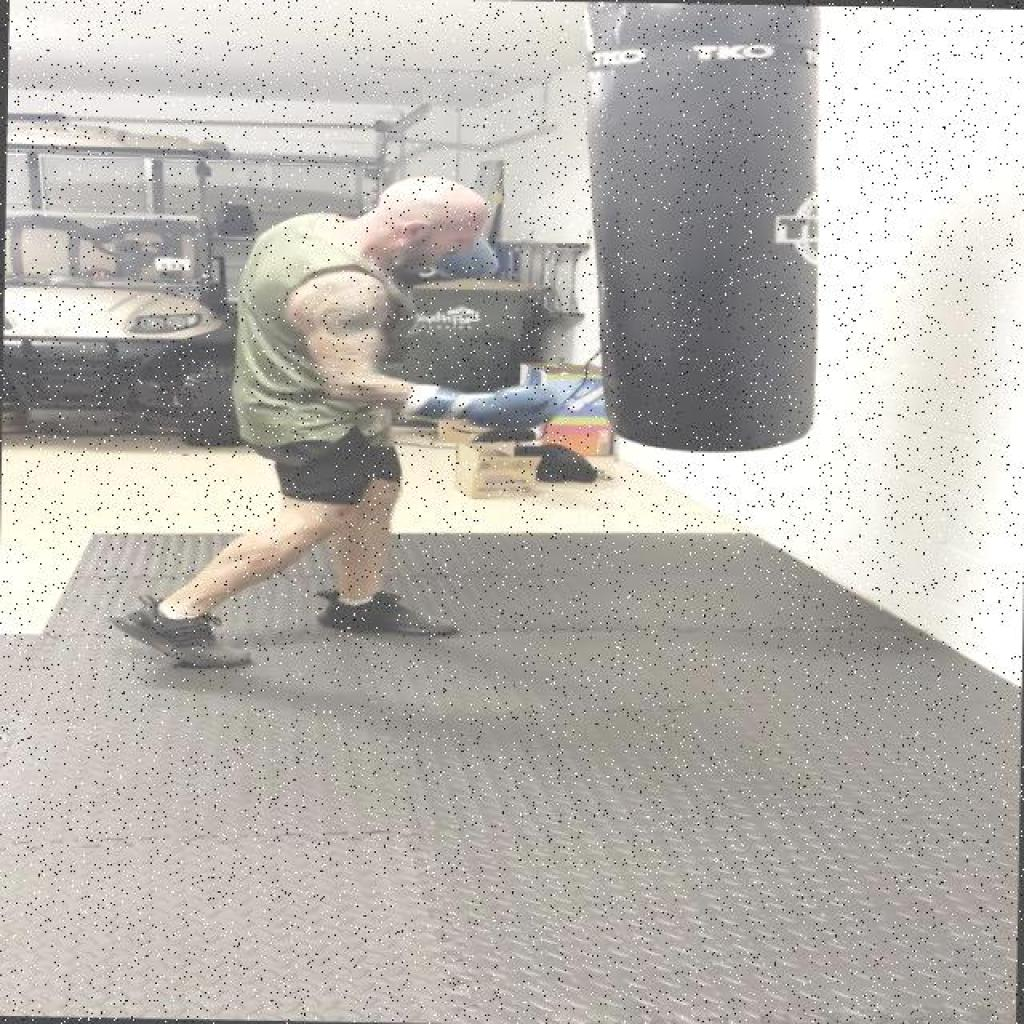bag: (571, 2, 850, 456)
uppercut: (229, 163, 624, 453)
